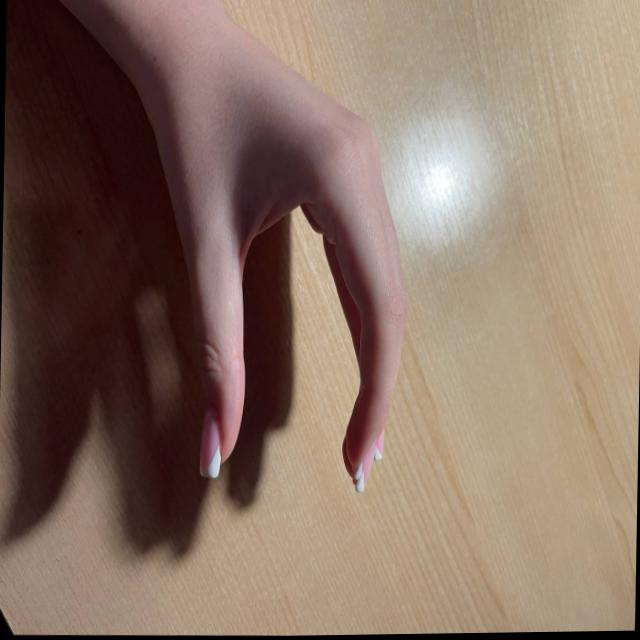s: (133, 64, 467, 550)
